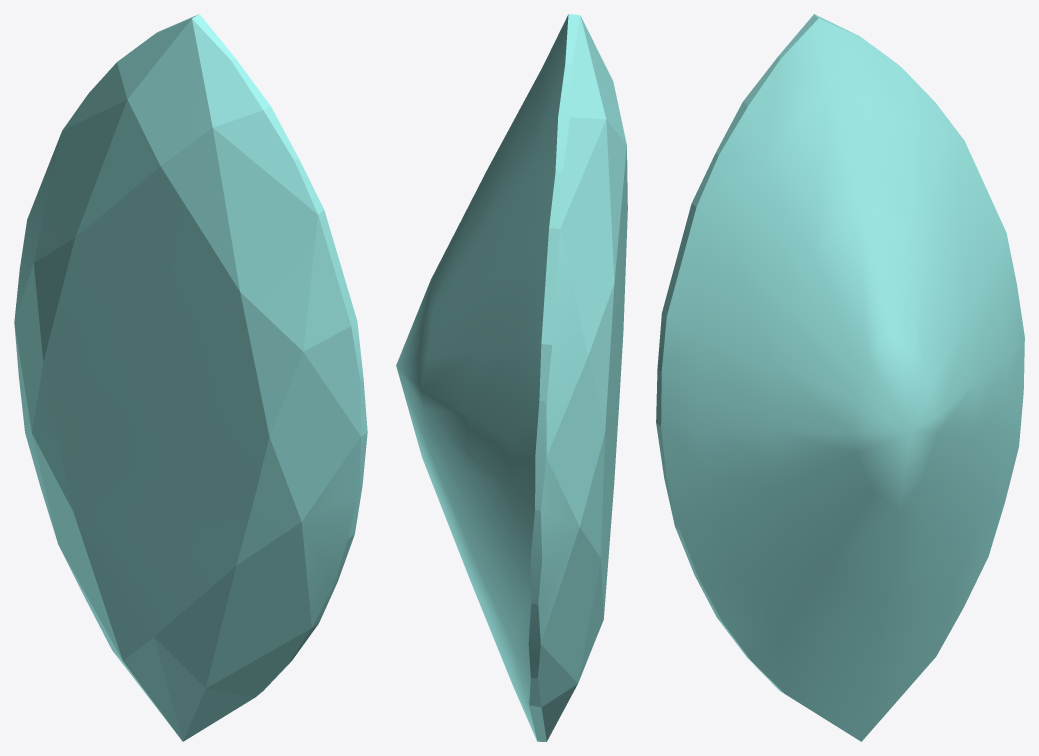
Rendered from BL4_8shapes_Marquise_Classic_Stone.001 3.glb.
The picture shows the model from 3 angles, left to right: view 1: azimuth 30°, elevation 25°; view 2: azimuth 150°, elevation 25°; view 3: azimuth 270°, elevation 25°; orthographic projection. The views are drawn at different scales.
Visible parts, largest first — view 1: BL4_8shapes_Marquise_Classic_Stone.001; view 2: BL4_8shapes_Marquise_Classic_Stone.001; view 3: BL4_8shapes_Marquise_Classic_Stone.001.
Boxes of the visible parts, x1,y1,x2,y2 form: BL4_8shapes_Marquise_Classic_Stone.001: (14,14,367,741); BL4_8shapes_Marquise_Classic_Stone.001: (396,14,627,741); BL4_8shapes_Marquise_Classic_Stone.001: (656,14,1024,741).
Size of the model in its own units: 0.2038 by 0.6315 by 0.2936.
